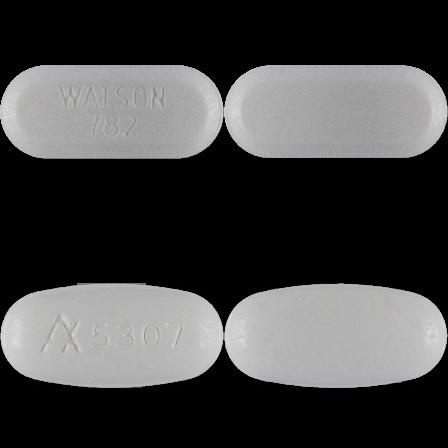12634-691: (0, 0, 224, 224)
